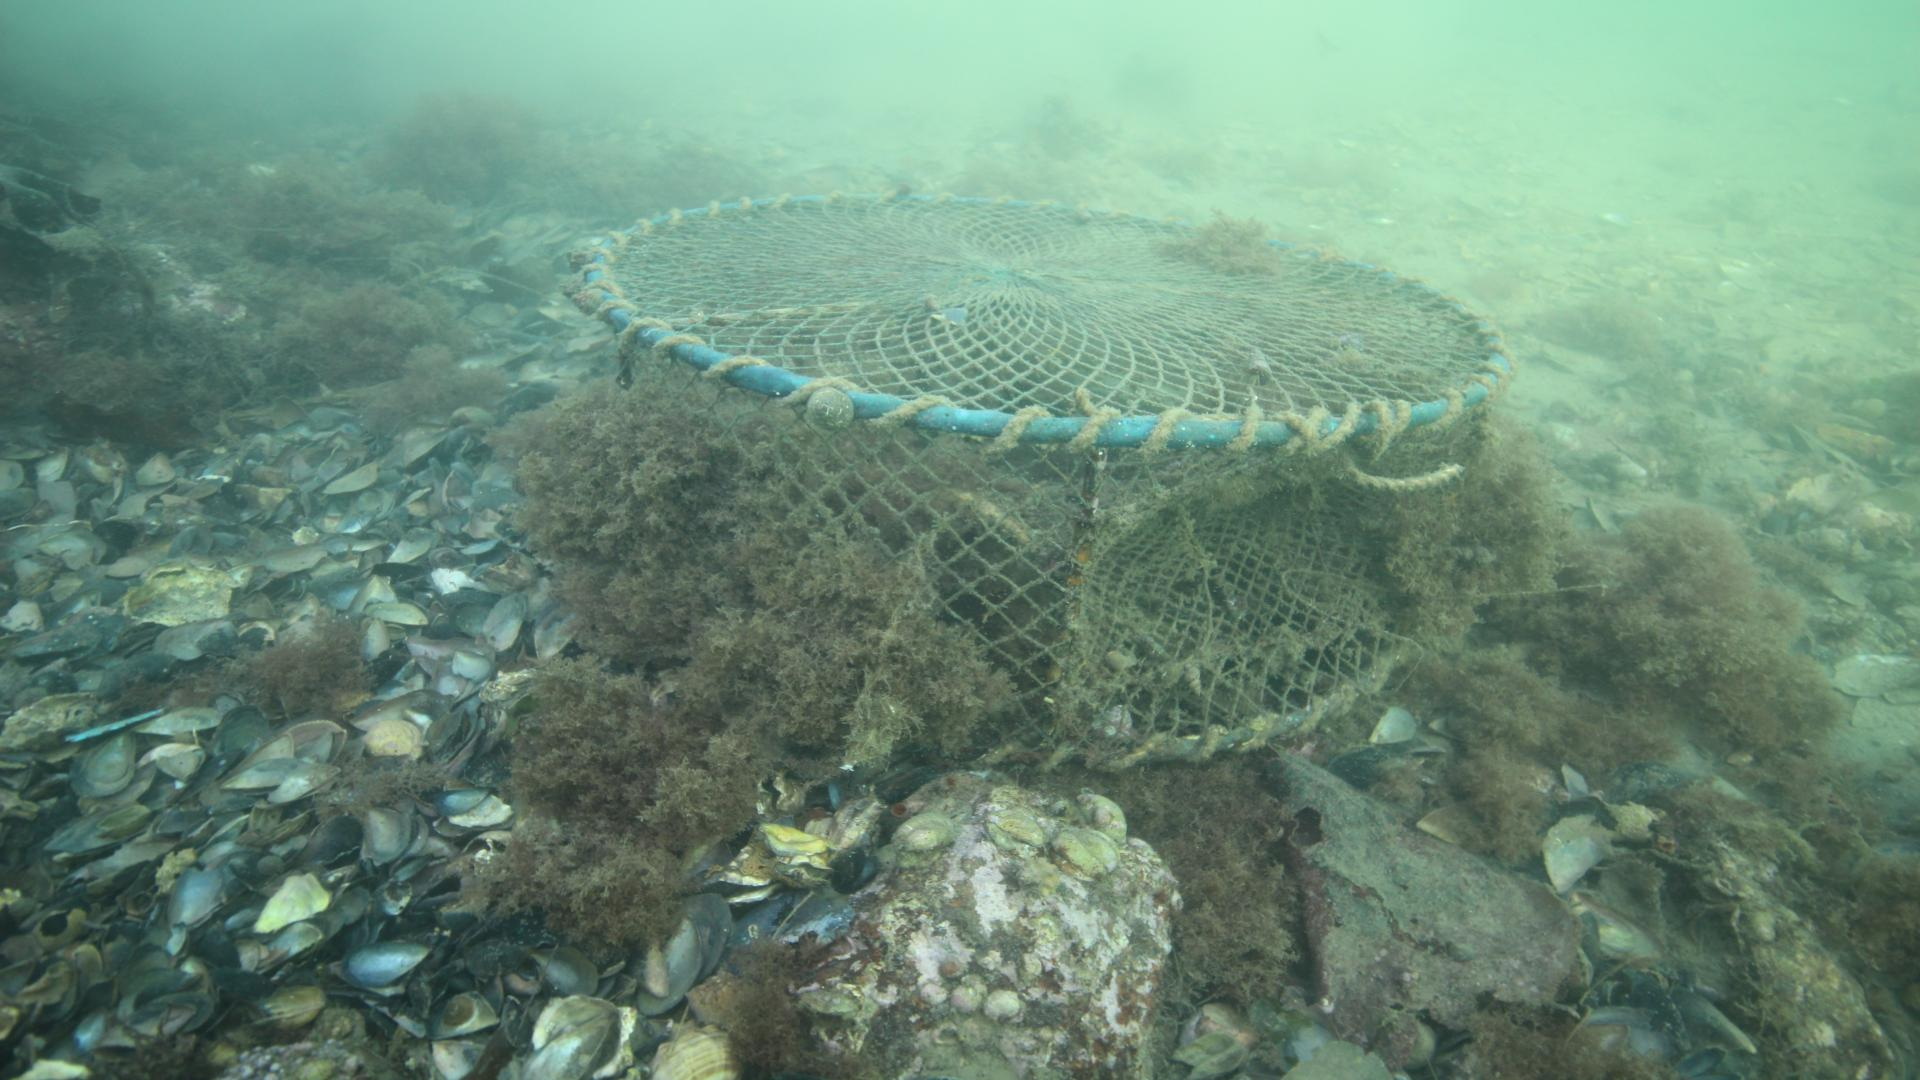circular fish trap: (578, 189, 1514, 767)
